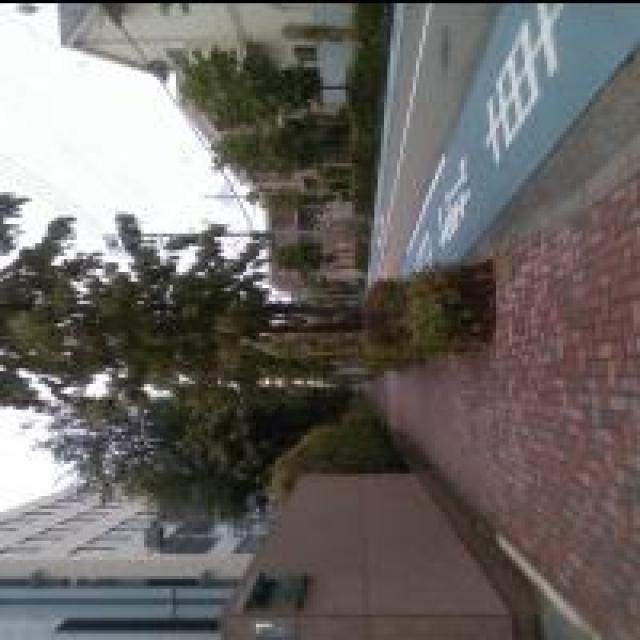Obstacle: (357, 265, 494, 370)
Road: (371, 3, 639, 275)
Sidewalk: (382, 62, 639, 639)
